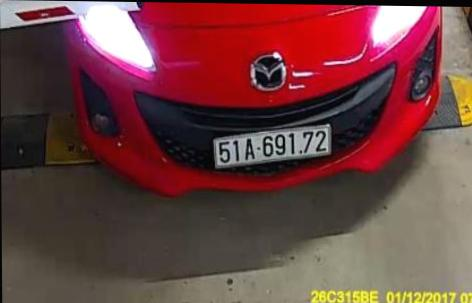License_Plate: (209, 125, 335, 167)
